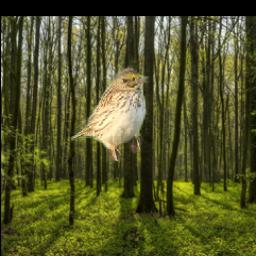Sparrow: (70, 67, 150, 162)
